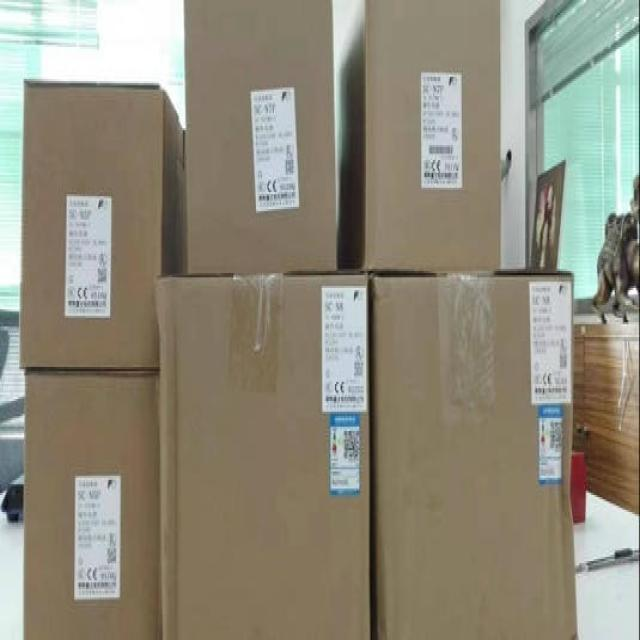box: (153, 262, 371, 640), (368, 267, 580, 640), (19, 79, 184, 369), (333, 0, 501, 273), (184, 0, 336, 275), (23, 367, 163, 640)
